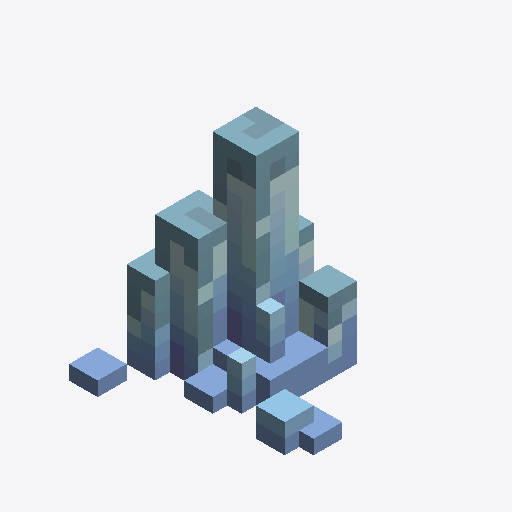
Isometric view (azimuth 45°, elevation 35.3°) of a Minecraft model made of 28 cuboids, textured from the same repository.
Visible parts, largest first — element 1, element 16, element 10, element 6, element 25, element 14, element 26, element 15, element 9, element 3, element 27, element 2 (+4 smaller).
Part boxes in pixels (x1,y1,x2,y2): element 1: (213,107,298,354); element 16: (170,215,212,379); element 10: (127,248,169,379); element 6: (299,265,356,379); element 25: (256,389,313,454); element 14: (271,331,327,396); element 26: (69,348,126,396); element 15: (199,215,226,346); element 9: (227,347,255,413); element 3: (256,298,284,363); element 27: (184,364,226,413); element 2: (213,339,284,404).
Size of the model in its own units: 14 by 14 by 14.